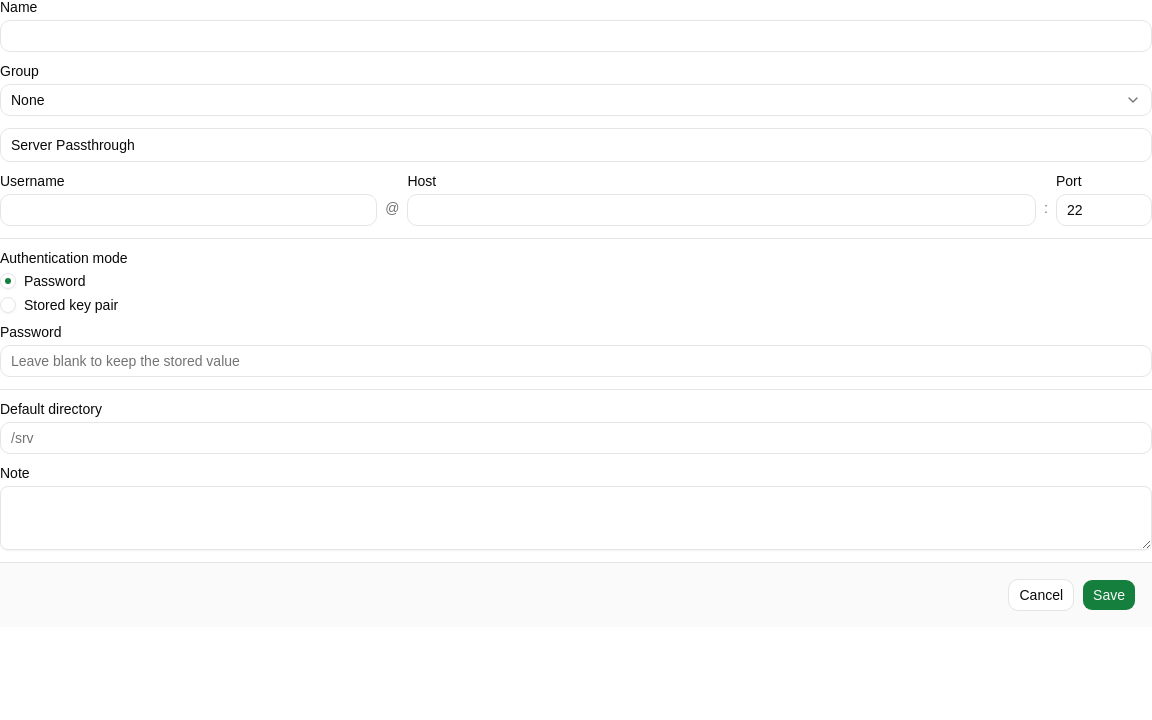
Test: SSHForm › renders a group selector listing None and the available groups
This screenshot has width=1152, height=720.
Click the dropdown named "Group" at point(28, 100), box [0,84,1151,116]
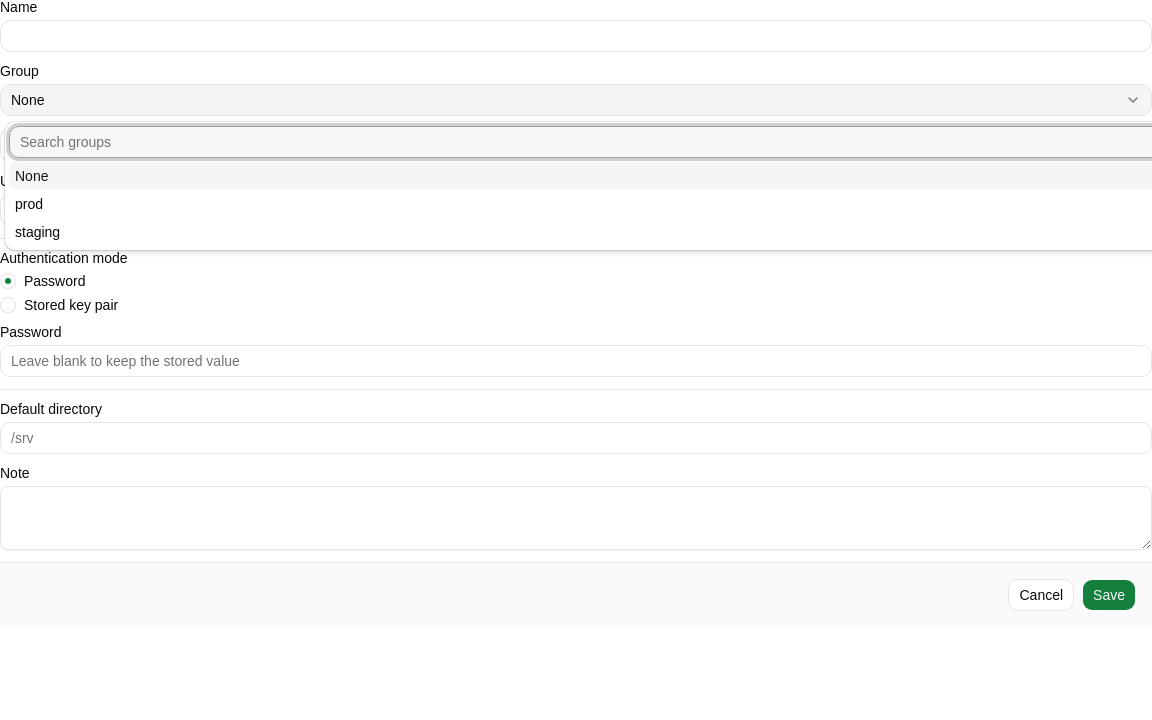
Expected: the option "prod" is shown, [15,196,43,212]
Expected: the option "staging" is shown, [15,224,60,240]
